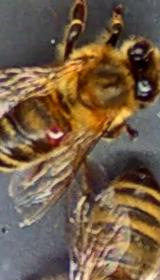varroa_mite: (28, 114, 67, 150)
